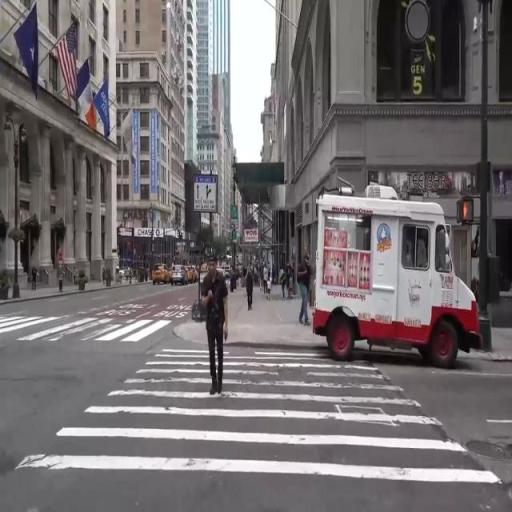person: (200, 259, 231, 400), (297, 251, 312, 332), (247, 268, 256, 309), (280, 265, 287, 305), (288, 264, 294, 300), (32, 266, 39, 293), (264, 261, 269, 296), (268, 258, 272, 279), (269, 279, 272, 306), (104, 266, 107, 284), (117, 264, 120, 273)
